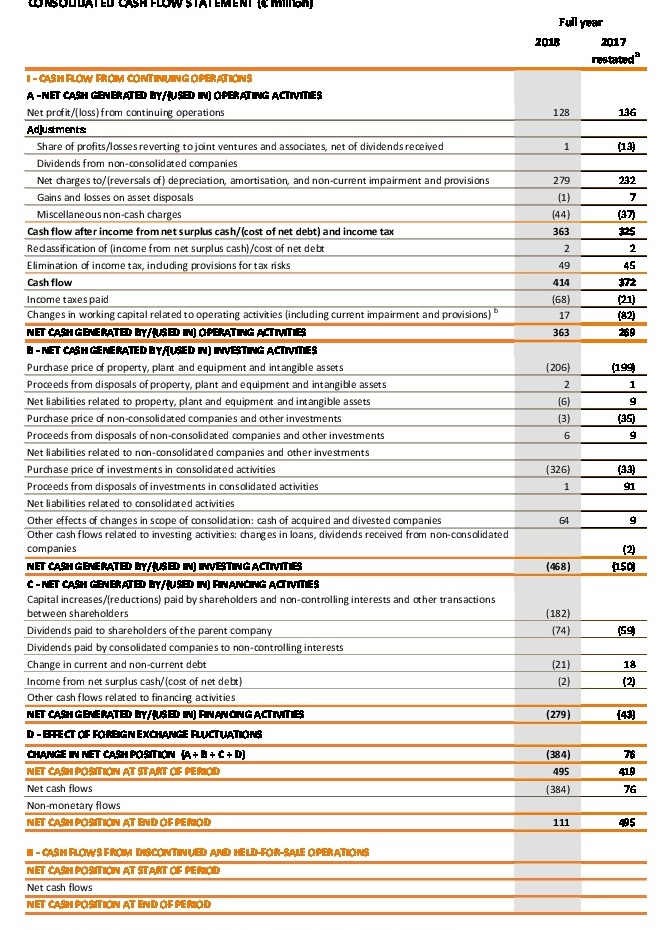table: (0, 0, 667, 930)
